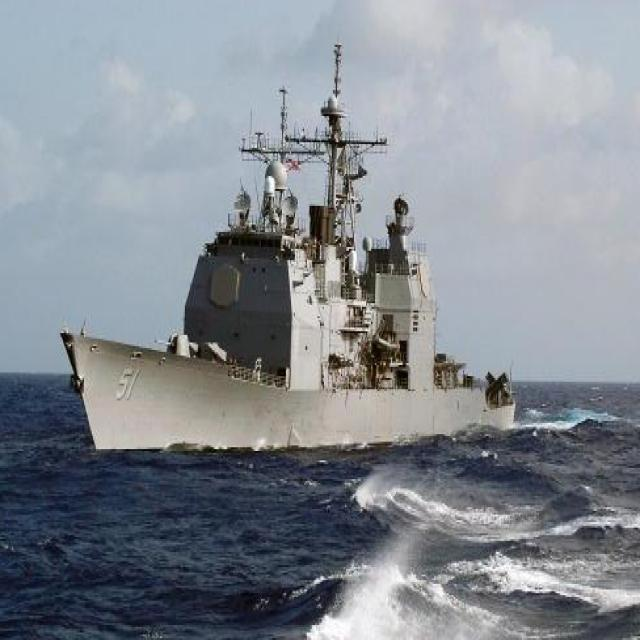navalvessels: (52, 94, 518, 429)
